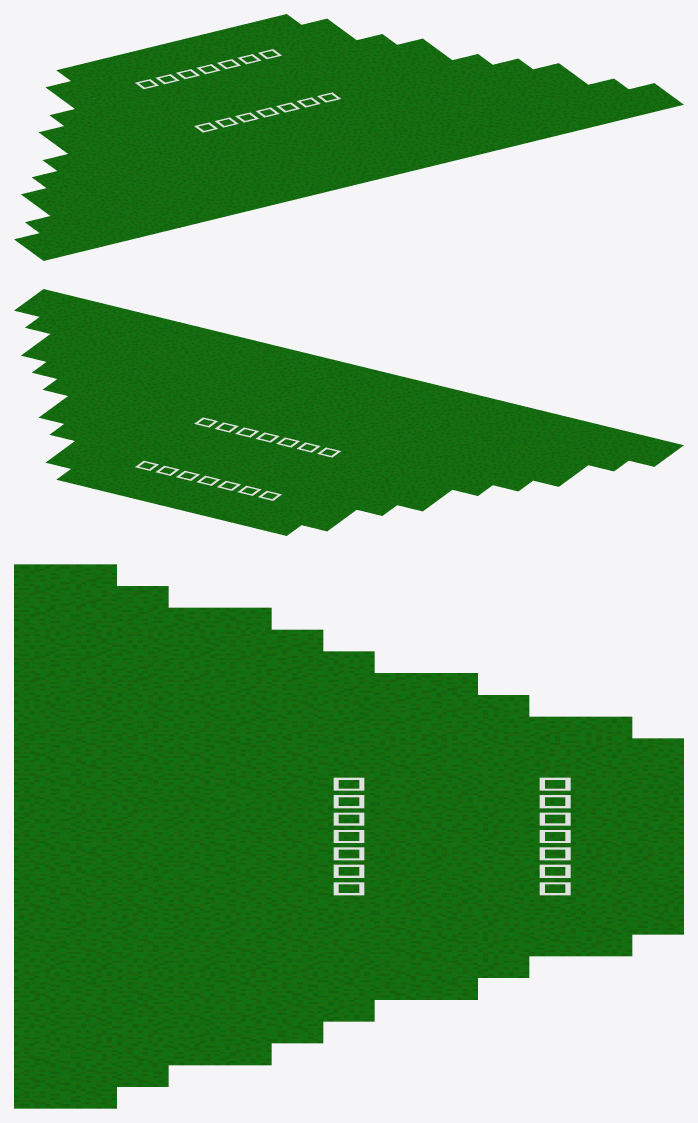
Rendered from Landscape_Hills.fbx.
3 views of the same model, one above another, from view 1: azimuth 30°, elevation 25°; view 2: azimuth 150°, elevation 25°; view 3: azimuth 270°, elevation 25° (orthographic). The views are drawn at different scales.
Visible parts, largest first — view 1: Plane; view 2: Plane; view 3: Plane.
Part boxes in pixels (bbox=[...]): Plane: bbox=[14, 14, 683, 260]; Plane: bbox=[14, 289, 683, 535]; Plane: bbox=[14, 564, 683, 1108].
Size of the model in its own units: 5000 by 0.000531 by 2600.
